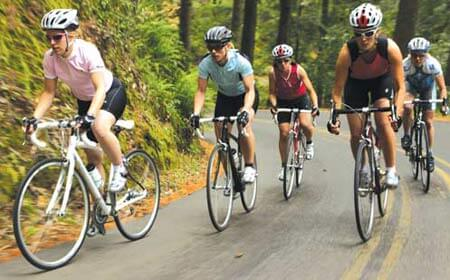helmet: (39, 5, 80, 29), (349, 3, 381, 28), (202, 22, 232, 43), (272, 39, 293, 58), (408, 35, 429, 53)
